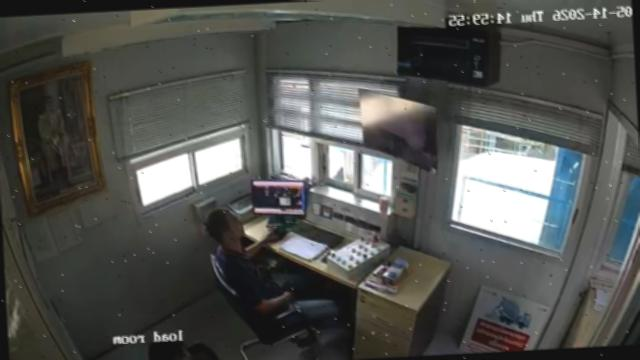Head: (203, 205, 245, 253), (144, 337, 199, 360)
People: (205, 209, 339, 328), (146, 343, 190, 359)
